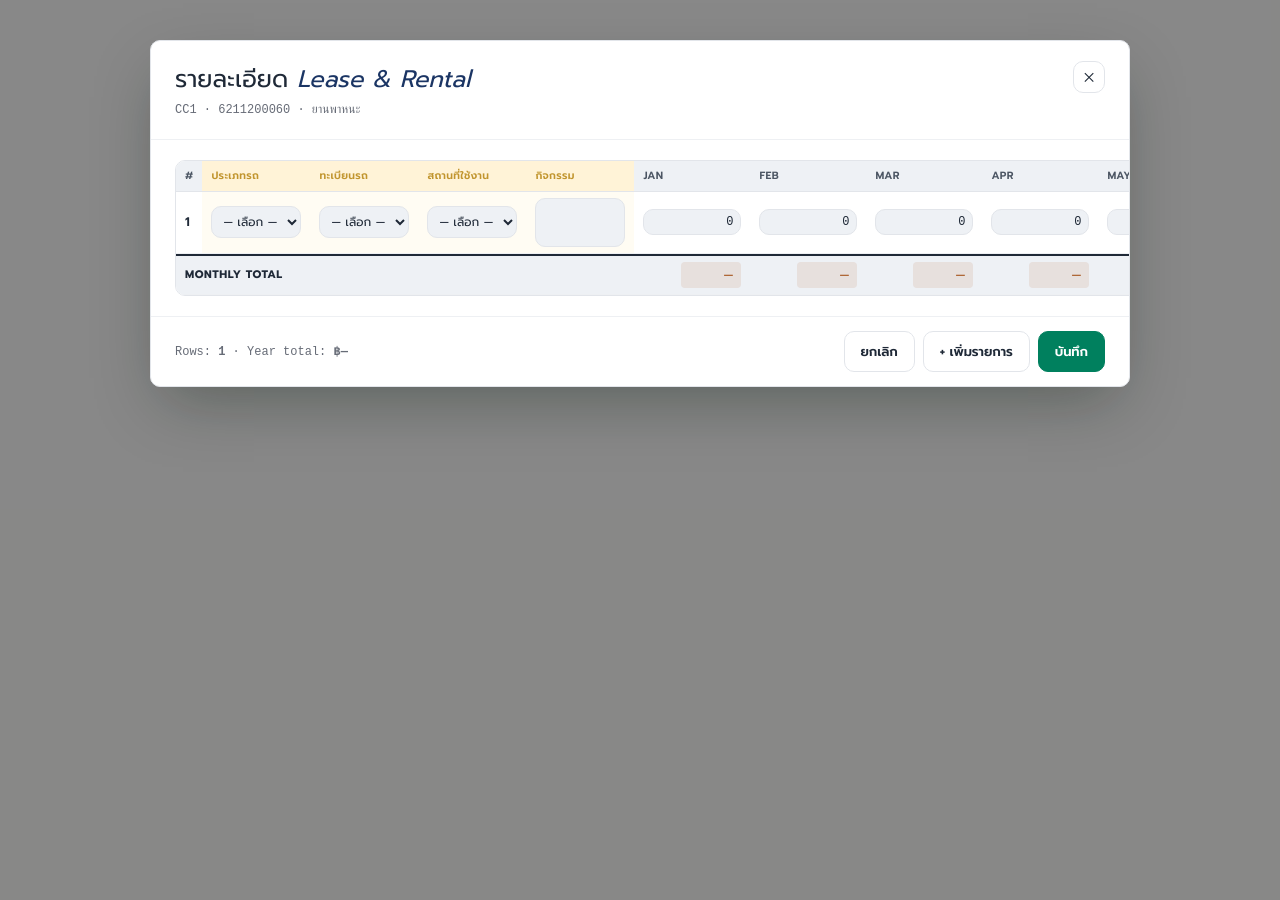
Test: DetailSubform › every ENTERABLE field is required, or the save is blocked (jakkaritw 2026-08-20, verbatim: "บังคับกรอก หรือ เลือกดรอปดาวทั้งหมด ไม่งั้น ไม่ไห้บันทึก") › TC060 case: GL 6211200060 row with ประเภทรถ/ทะเบียนรถ(custom)/สถานที่ใช้งาน filled still blocks on a blank กิจกรรม
Select "Car" in the dropdown named "ประเภทรถ" at (256, 222), box left=211, top=206, right=301, bottom=238
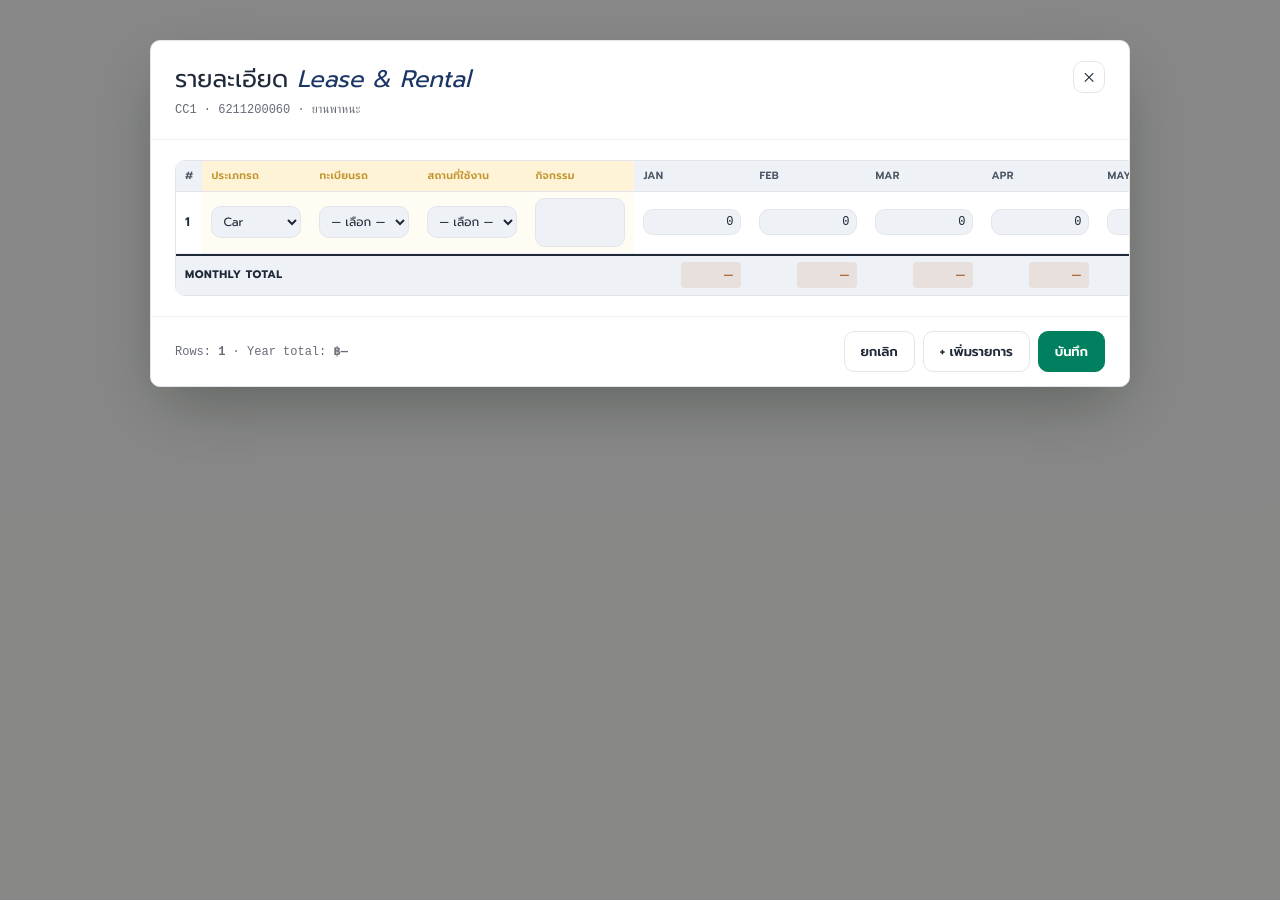
Select "อื่นๆ" in the dropdown named "ทะเบียนรถ" at (364, 222), box left=319, top=206, right=409, bottom=238
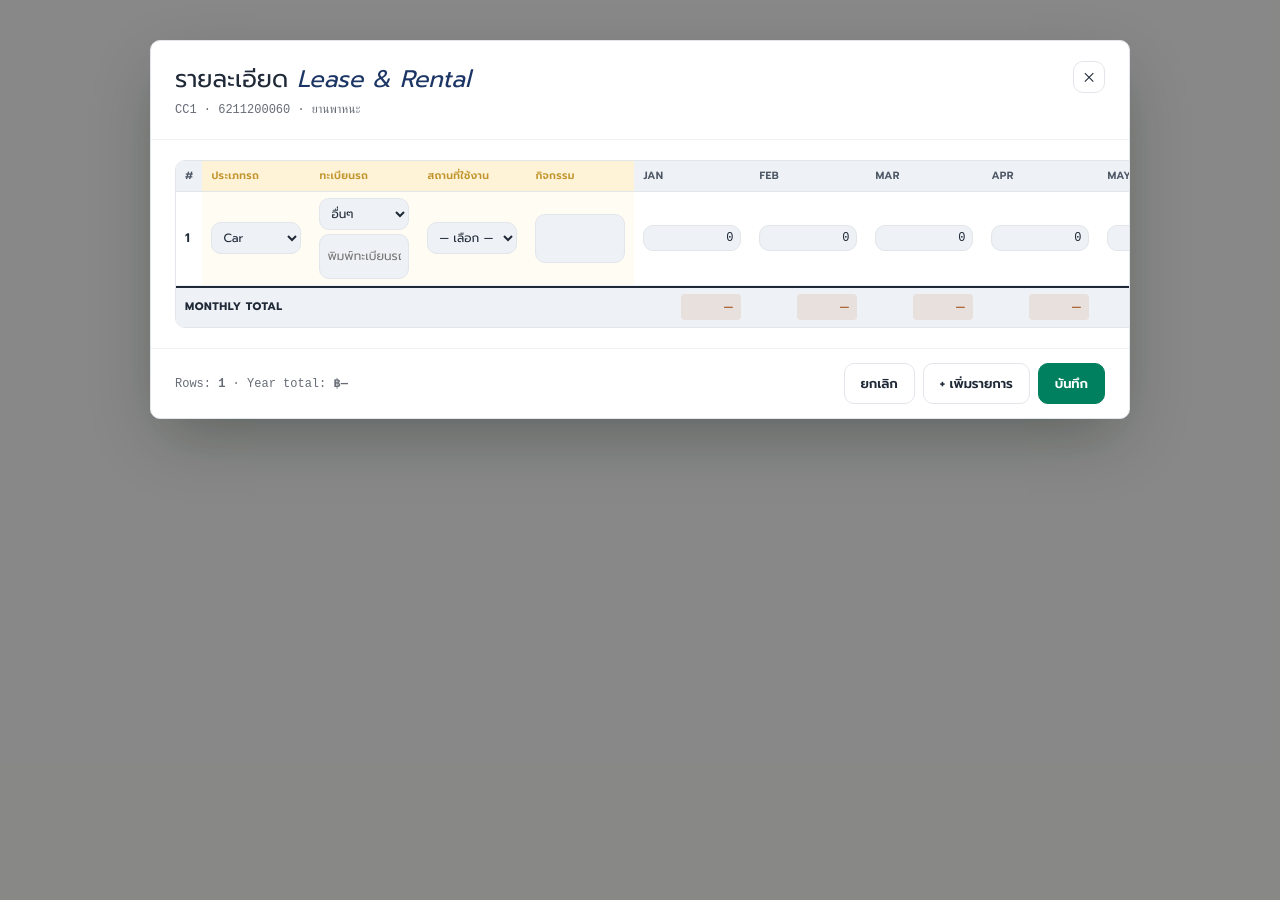
Type "hello" into the field with placeholder "พิมพ์ทะเบียนรถ" at (364, 256), box left=319, top=234, right=409, bottom=279
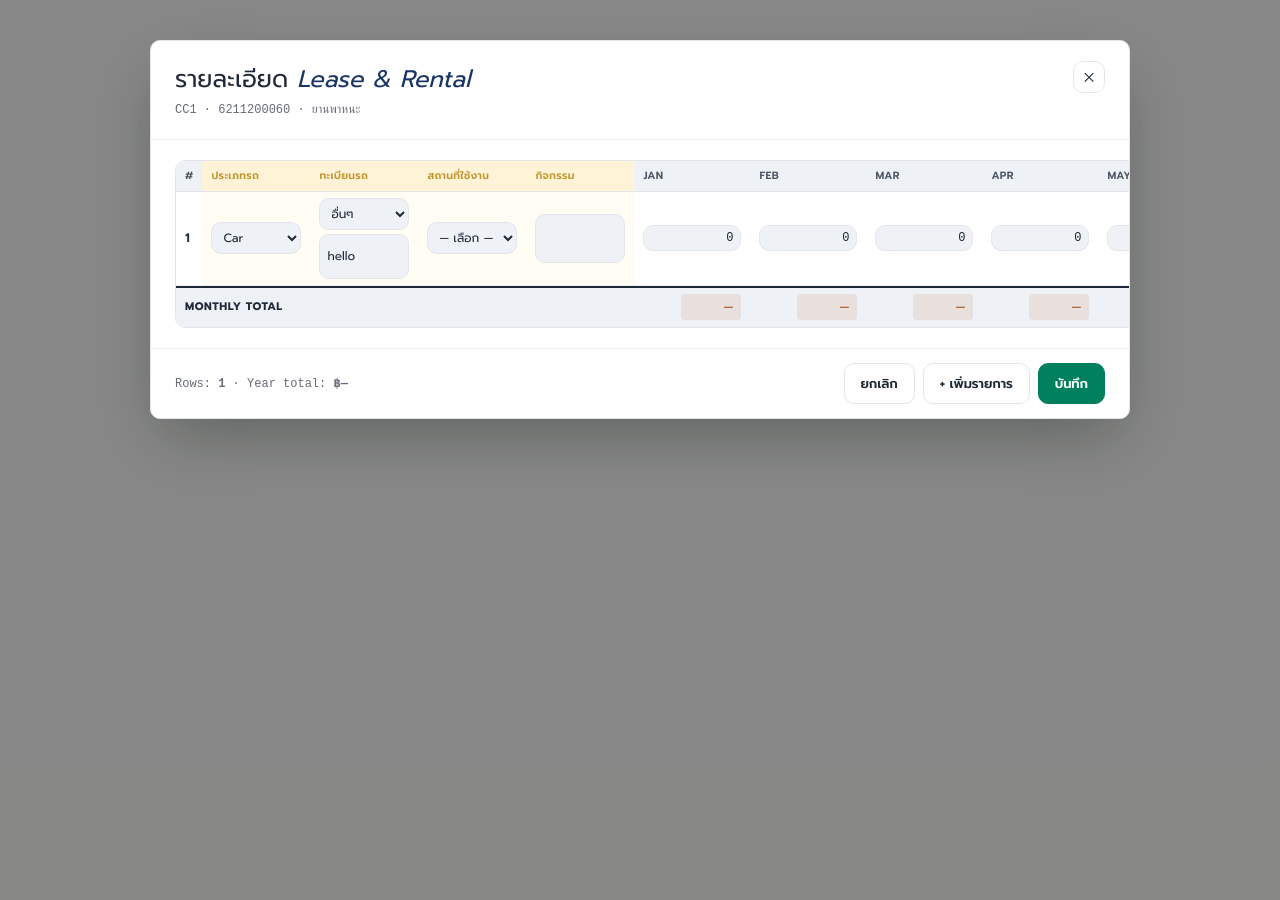
Select "BK" in the dropdown named "สถานที่ใช้งาน" at (472, 238), box left=427, top=222, right=517, bottom=254
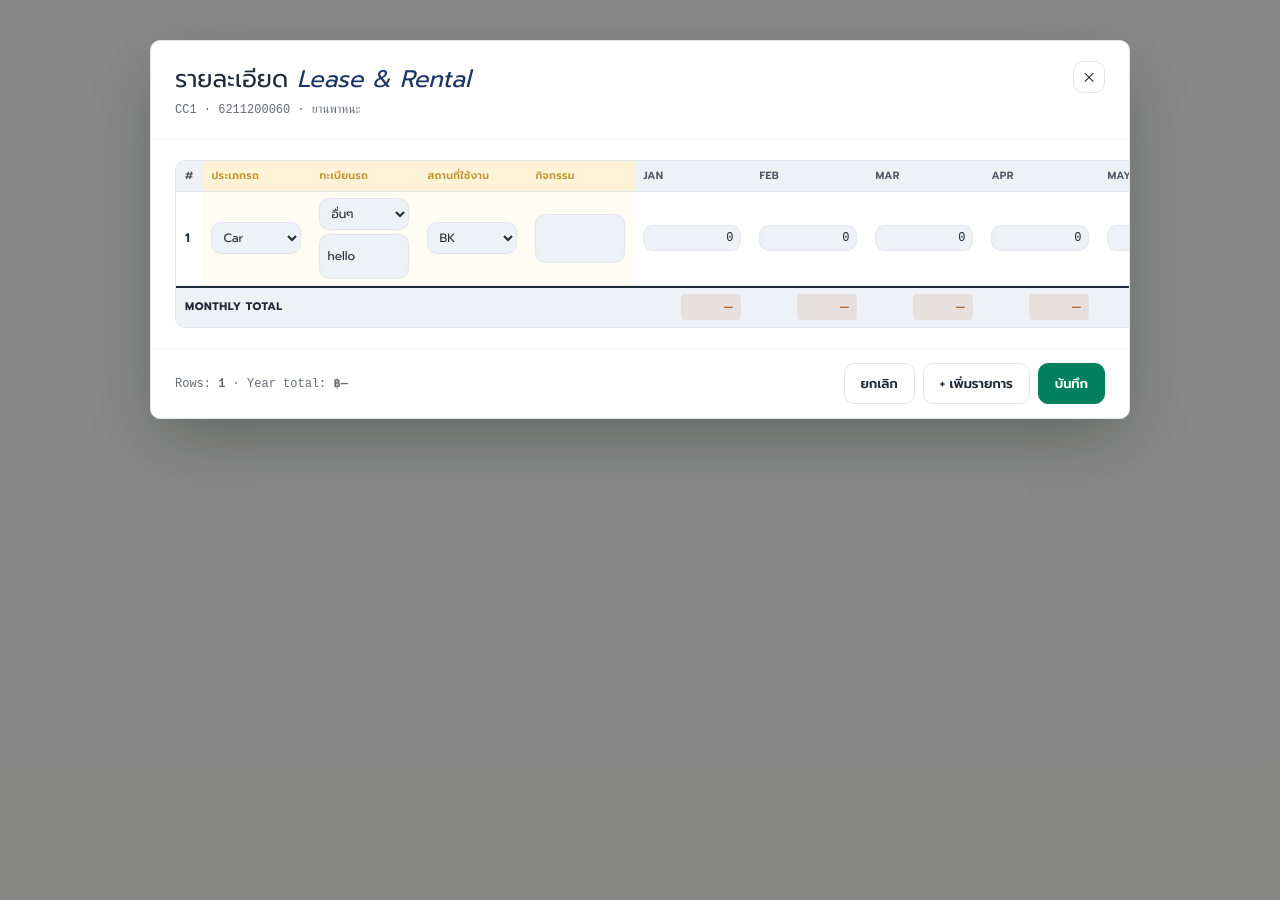
Click the button with test id "save-all" at (1071, 384), box left=1038, top=363, right=1105, bottom=404
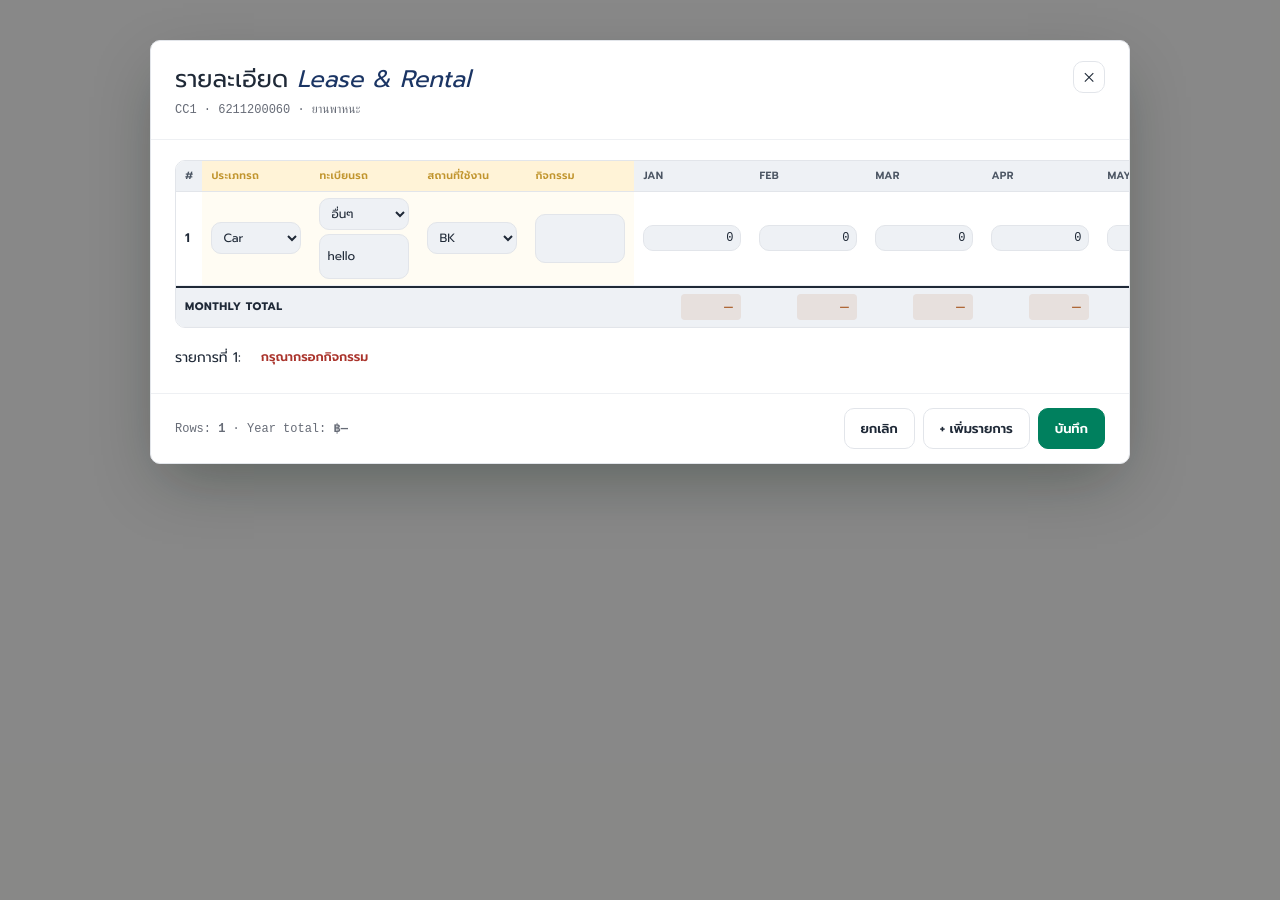
Result: the text "กรุณากรอกกิจกรรม" is shown at left=261, top=347, right=368, bottom=366
